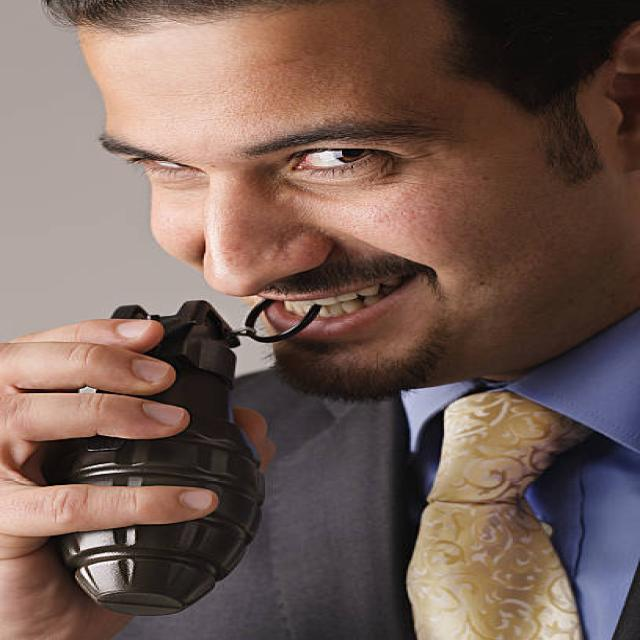grenade: (55, 292, 329, 617)
